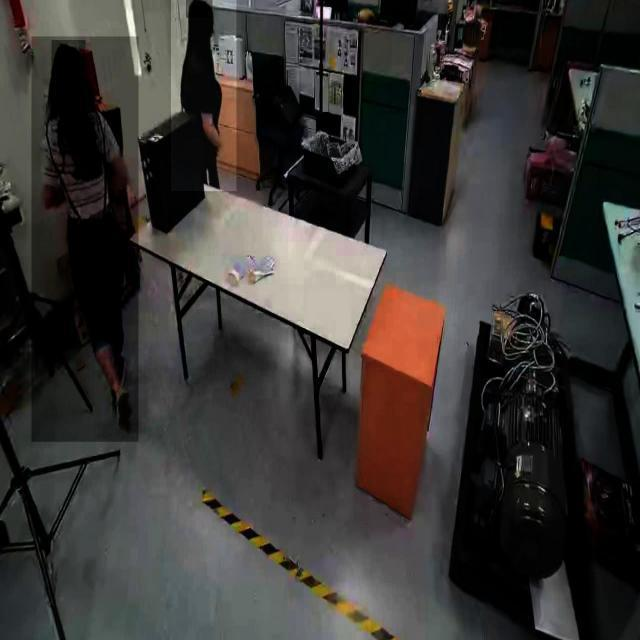boots: (111, 386, 135, 434)
